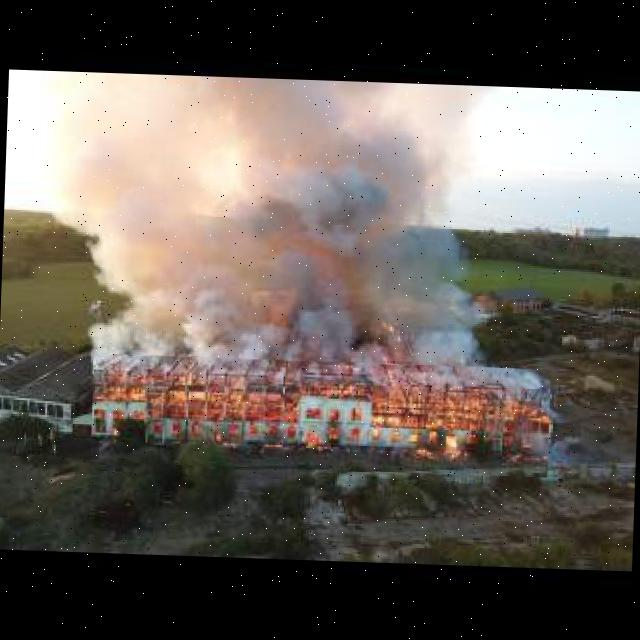fire: (90, 353, 550, 477)
